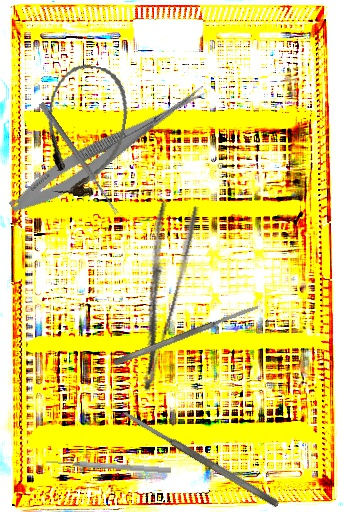Cannula: (33, 59, 136, 203)
Dressing Forceps: (112, 197, 203, 393)
Micro Scissor: (4, 72, 213, 224)
Pusher: (45, 457, 172, 475)
Spatula Surgical: (120, 407, 281, 509), (112, 303, 260, 367)
Surgical Spoon: (37, 101, 121, 216)
